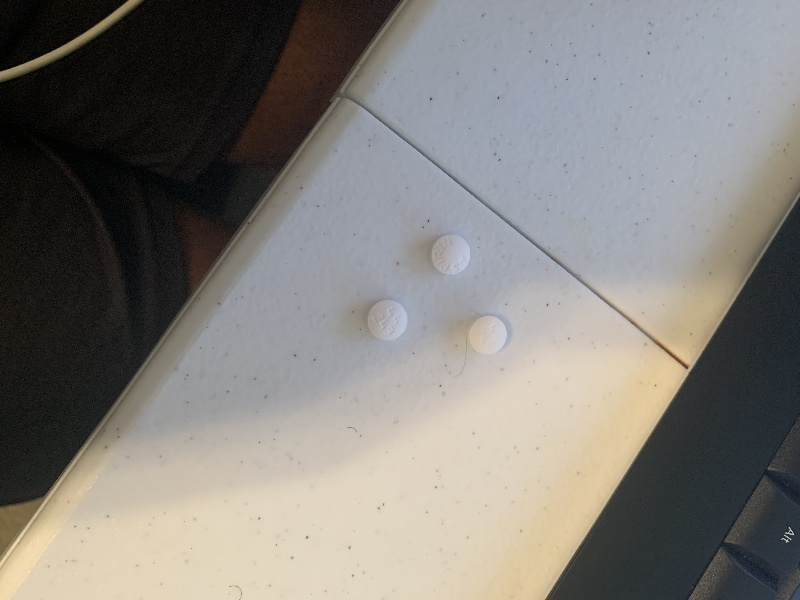Aspirin: (425, 232, 481, 284), (360, 296, 414, 346), (464, 311, 512, 359)
